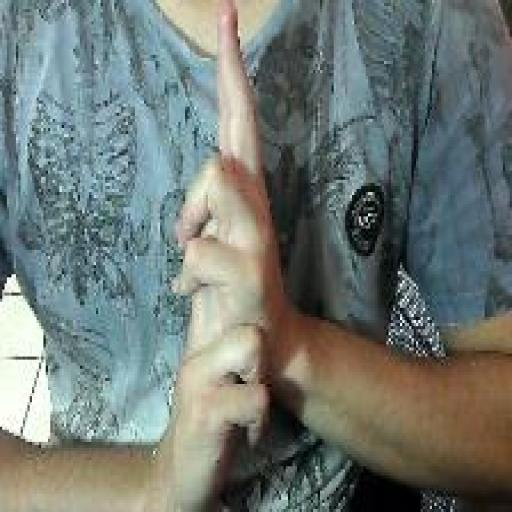Hitsuji -ram-: (172, 0, 276, 509)
